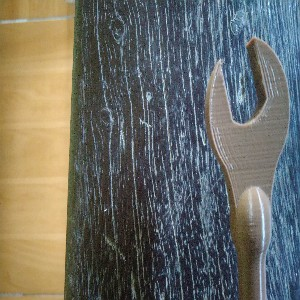spanner: (204, 37, 290, 300)
